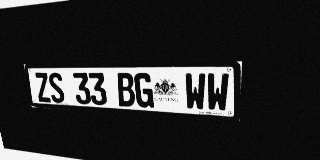3: (72, 73, 91, 105), (88, 73, 107, 105)
B: (116, 73, 136, 107)
G: (134, 73, 154, 108)
S: (47, 73, 66, 103)
W: (206, 73, 229, 112), (184, 73, 206, 111)
Z: (34, 73, 52, 102)
